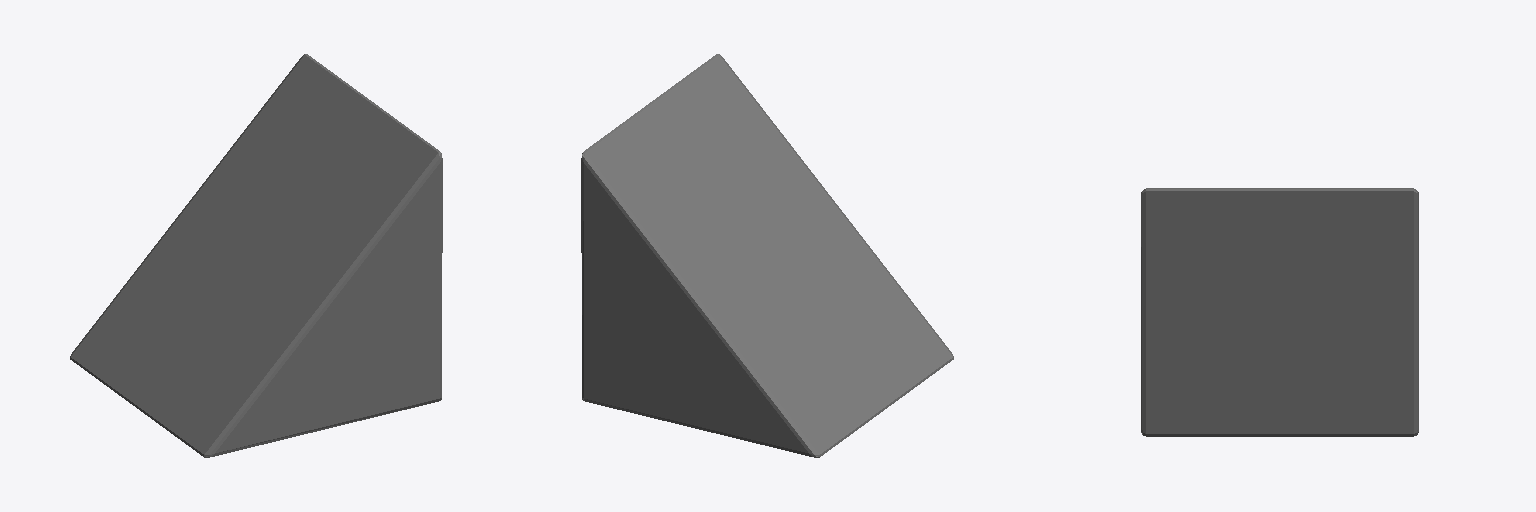
Rendered from Ramp.obj.
The picture shows the model from 3 angles: view 1: azimuth 30°, elevation 25°; view 2: azimuth 150°, elevation 25°; view 3: azimuth 270°, elevation 25°; orthographic projection.
Parts seen in each view (by area): view 1: pCube146; view 2: pCube146; view 3: pCube146.
Part boxes in pixels (bbox=[...]): pCube146: bbox=[70, 54, 442, 457]; pCube146: bbox=[581, 54, 953, 457]; pCube146: bbox=[1141, 188, 1418, 436].
Bounding box in the file's own units: 0.9881 × 0.9881 × 1.